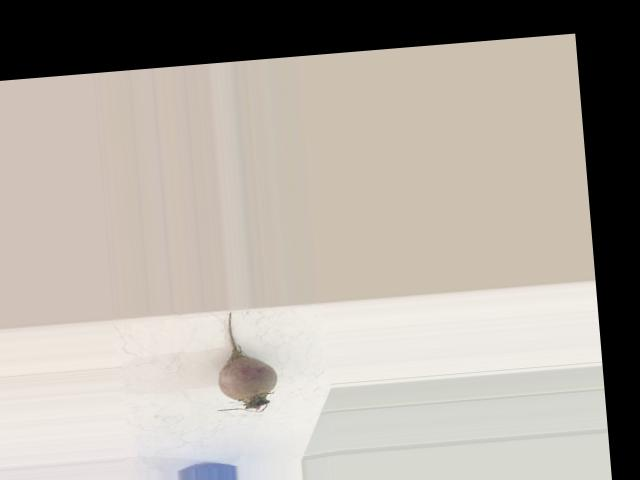beet: (208, 308, 279, 415)
